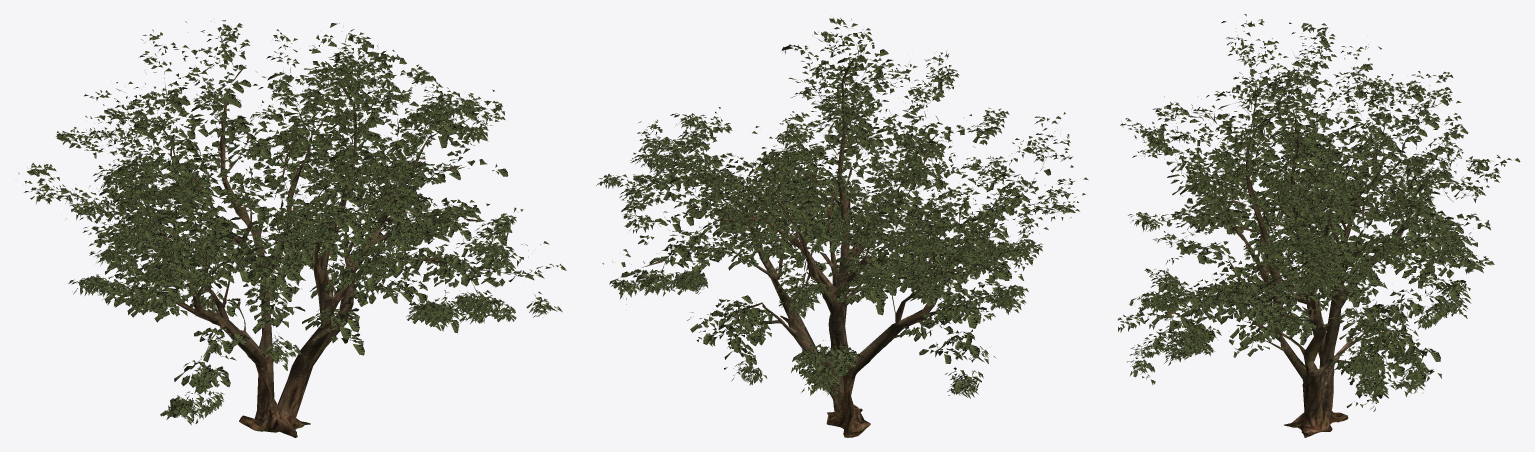
The model's file is jacaranda_tree.glb.
The picture shows the model from 3 angles, left to right: view 1: azimuth 30°, elevation 25°; view 2: azimuth 150°, elevation 25°; view 3: azimuth 270°, elevation 25°; orthographic projection. The views are drawn at different scales.
Parts seen in each view (by area): view 1: jacaranda_tree_LOD0; view 2: jacaranda_tree_LOD0; view 3: jacaranda_tree_LOD0.
Part boxes in pixels (x1,y1,x2,y2): jacaranda_tree_LOD0: [18, 20, 566, 437]; jacaranda_tree_LOD0: [596, 17, 1088, 437]; jacaranda_tree_LOD0: [1117, 14, 1520, 437].
Bounding box in the file's own units: 23.94 × 19.33 × 18.85.
Materials: 3 (3 with a texture image).
